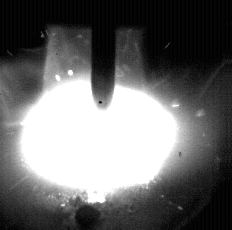arame: (92, 0, 116, 110)
poca: (17, 0, 177, 230)
